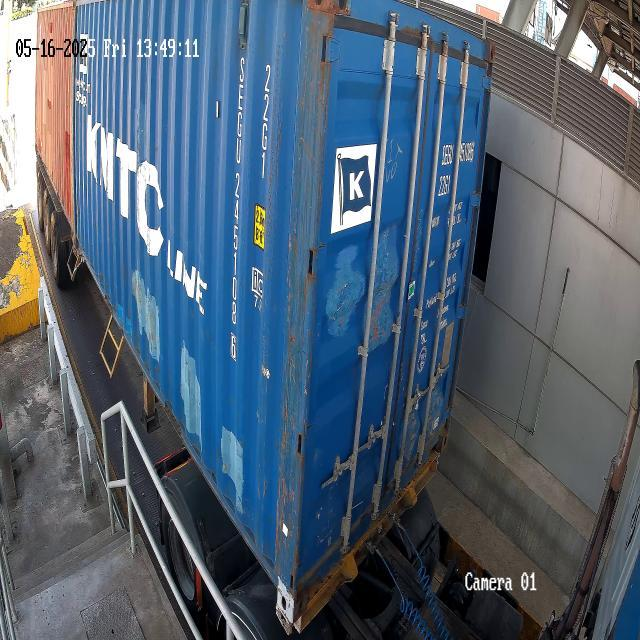ISO: (252, 45, 280, 189)
container_number: (225, 34, 251, 370)
